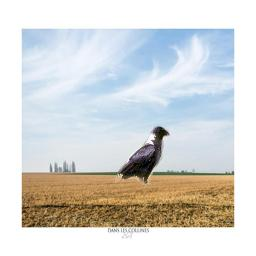Crow: (115, 124, 170, 185)
